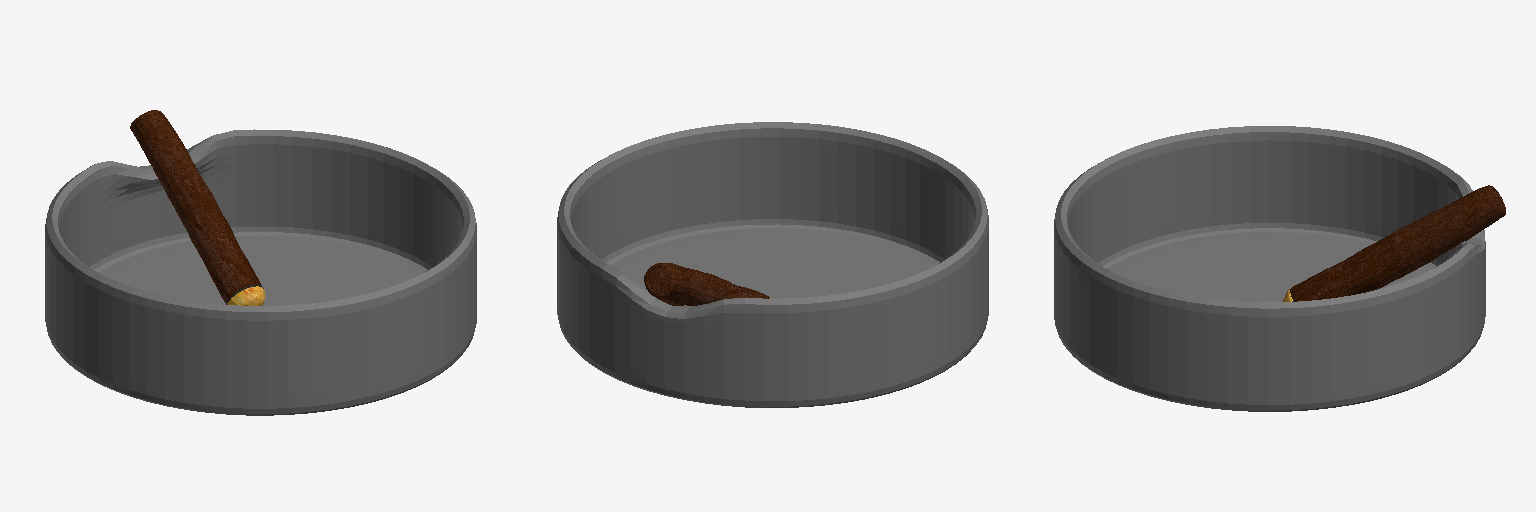
The picture shows the model from 3 angles: view 1: azimuth 30°, elevation 25°; view 2: azimuth 150°, elevation 25°; view 3: azimuth 270°, elevation 25°; orthographic projection.
Visible parts, largest first — view 1: cenicere, pure; view 2: cenicere, pure; view 3: cenicere, pure.
Part boxes in pixels (x1,y1,x2,y2): cenicere: (45, 129, 476, 415); pure: (130, 110, 264, 305); cenicere: (557, 122, 988, 407); pure: (644, 263, 770, 305); cenicere: (1054, 126, 1485, 411); pure: (1283, 185, 1505, 301).
Size of the model in its own units: 4.49 by 1.59 by 4.7.
4 materials, 2 textured.